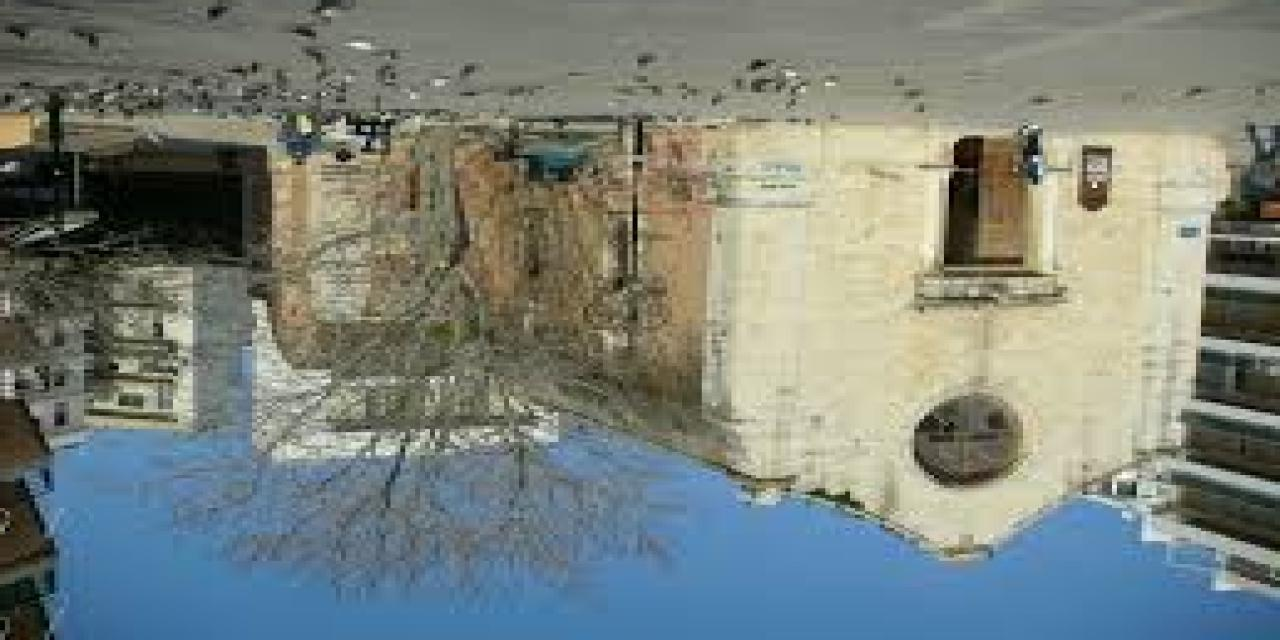Agia Aikaterini: (285, 101, 1202, 567)
